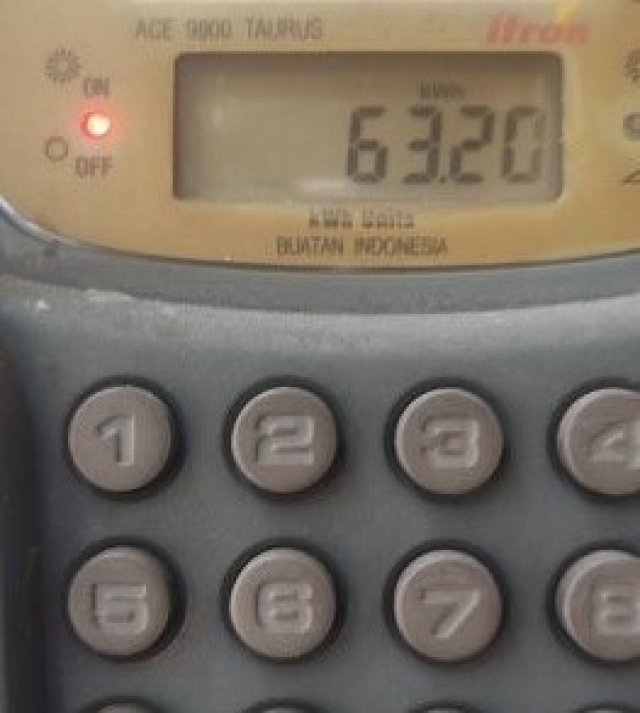box: (178, 54, 561, 198)
